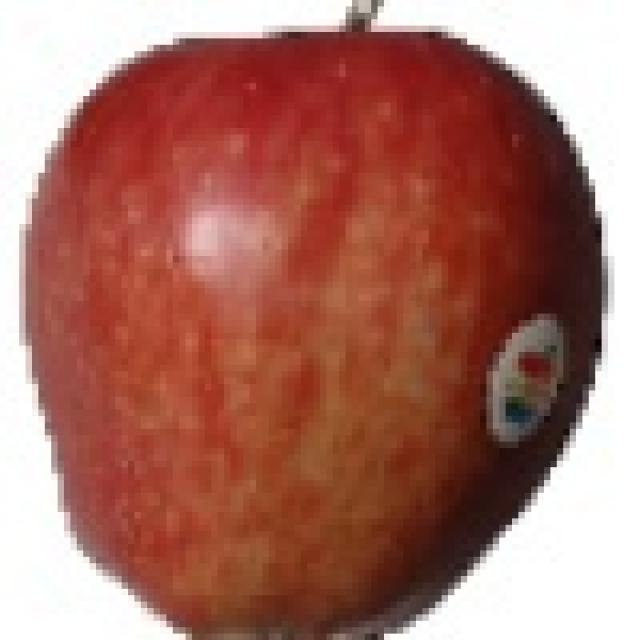apple: (26, 13, 620, 635)
